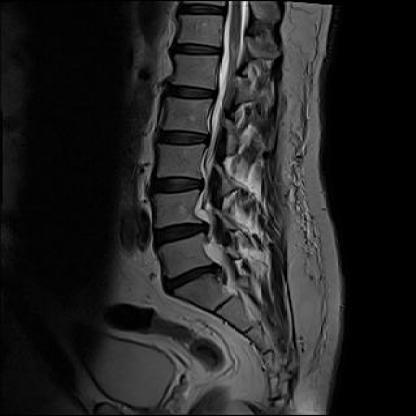Degenerative Disc Diseaserotation: (154, 258, 231, 287), (143, 217, 210, 247), (149, 173, 205, 197)
Disc Bulgerotation: (143, 217, 214, 248), (155, 259, 233, 286), (147, 173, 205, 198)
